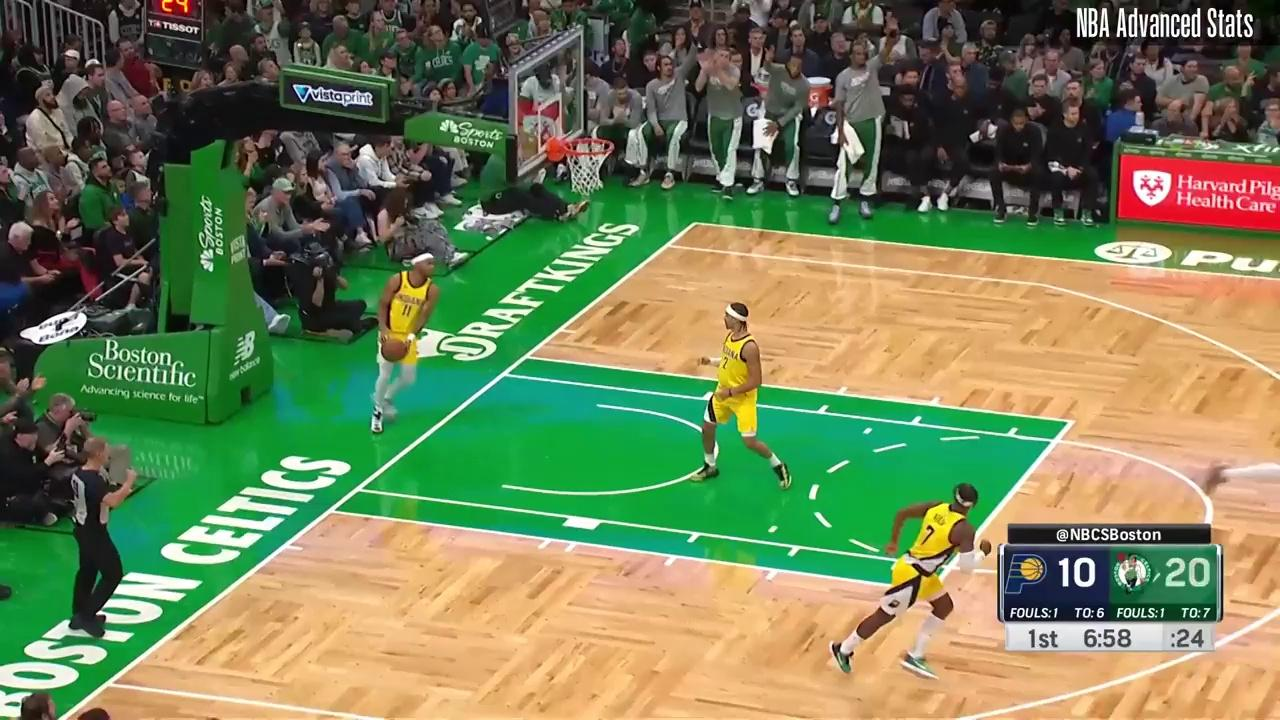3_dx: (661, 240, 675, 253)
3_sx: (100, 668, 122, 691)
b_dx: (687, 217, 703, 231)
free_adx: (1063, 416, 1081, 431)
free_bdx: (519, 350, 537, 365)
free_bsx: (322, 504, 342, 519)
team: (67, 438, 137, 635)
team1: (829, 481, 992, 678), (690, 300, 795, 489), (371, 251, 439, 433)
timer: (1076, 623, 1136, 656)
